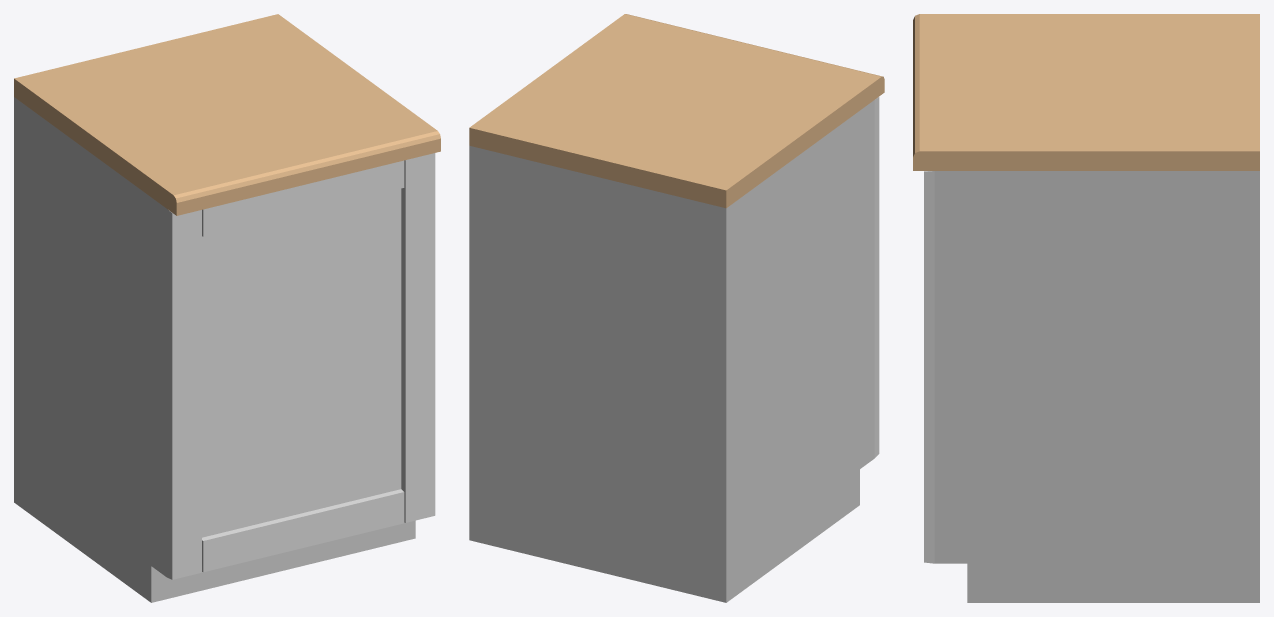
The model's file is floor_unit_narrow1.dae.
The picture shows the model from 3 angles, left to right: view 1: azimuth 30°, elevation 25°; view 2: azimuth 150°, elevation 25°; view 3: azimuth 270°, elevation 25°; orthographic projection. The views are drawn at different scales.
Visible parts, largest first — view 1: cover_small_big, Floor_unit1, CounterTop_Cabinet; view 2: Floor_unit1, CounterTop_Cabinet, cover_small_big; view 3: Floor_unit1, CounterTop_Cabinet, cover_small_big.
Part boxes in pixels (left/top/right/bottom): cover_small_big: left=166, top=153, right=435, bottom=579; Floor_unit1: left=14, top=97, right=415, bottom=602; CounterTop_Cabinet: left=14, top=14, right=440, bottom=215; Floor_unit1: left=469, top=100, right=874, bottom=602; CounterTop_Cabinet: left=469, top=14, right=884, bottom=208; cover_small_big: left=874, top=97, right=879, bottom=457; Floor_unit1: left=934, top=171, right=1259, bottom=602; CounterTop_Cabinet: left=913, top=14, right=1259, bottom=170; cover_small_big: left=924, top=171, right=934, bottom=563.
Bounding box in the file's own units: 0.6 × 0.64 × 0.92.
